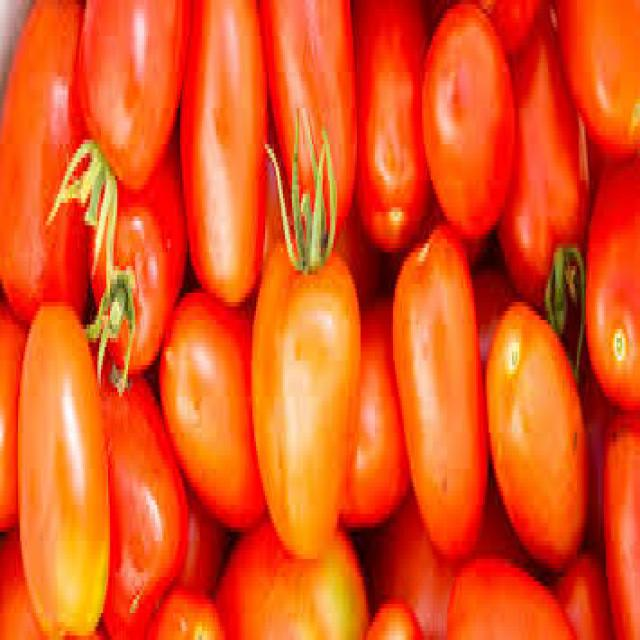Tomato: (251, 158, 364, 590), (394, 188, 494, 568), (16, 286, 119, 640), (481, 290, 594, 574), (172, 275, 280, 534), (90, 141, 188, 380), (425, 13, 518, 254), (585, 164, 640, 425)
